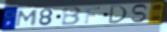8: (38, 9, 54, 27)
B: (61, 6, 83, 26)
D: (107, 4, 129, 24)
F: (84, 6, 102, 25)
M: (15, 9, 40, 28)
S: (130, 4, 149, 23)
